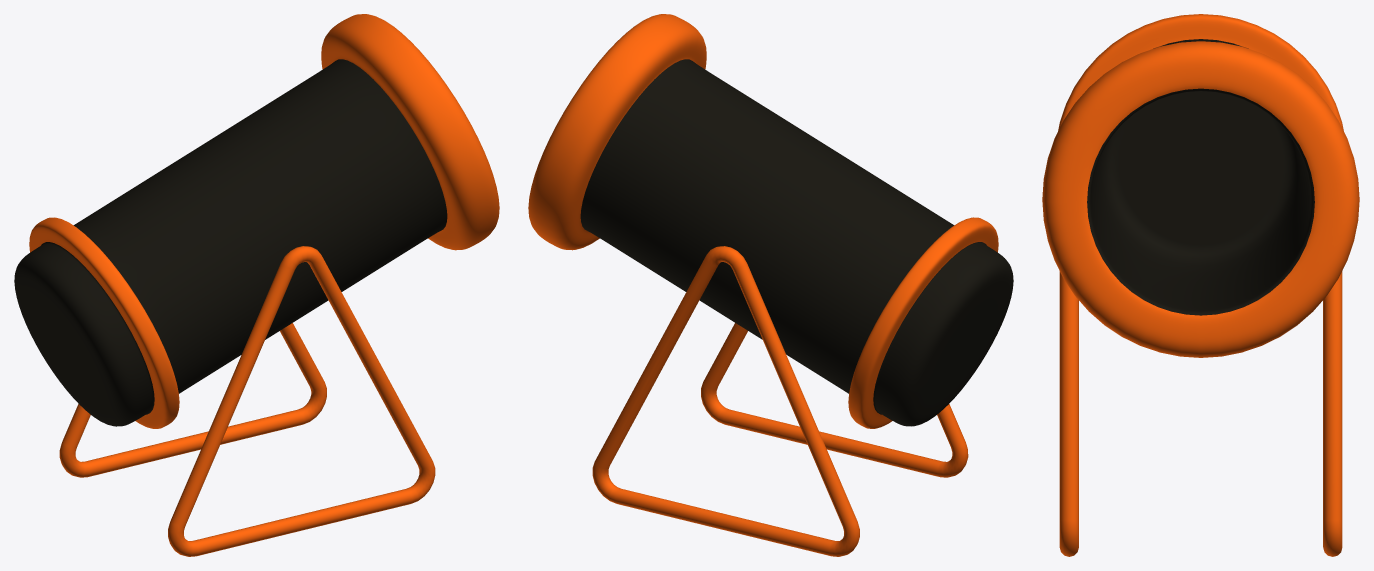
The picture shows the model from 3 angles, left to right: view 1: azimuth 30°, elevation 25°; view 2: azimuth 150°, elevation 25°; view 3: azimuth 270°, elevation 25°; orthographic projection. The views are drawn at different scales.
Parts seen in each view (by area): view 1: Line023, Group123, Line024, Line025; view 2: Line023, Group123, Line025, Line024; view 3: Group123, Line023, Line024, Line025.
Boxes of the visible parts, left/top/right/bottom form: Line023: left=14, top=59, right=447, bottom=426; Group123: left=29, top=14, right=499, bottom=428; Line024: left=168, top=246, right=435, bottom=556; Line025: left=59, top=323, right=326, bottom=477; Line023: left=580, top=59, right=1013, bottom=426; Group123: left=528, top=14, right=998, bottom=428; Line025: left=592, top=246, right=859, bottom=556; Line024: left=701, top=323, right=968, bottom=477; Group123: left=1042, top=14, right=1359, bottom=357; Line023: left=1087, top=39, right=1314, bottom=315; Line024: left=1059, top=271, right=1078, bottom=556; Line025: left=1323, top=271, right=1342, bottom=556.
Bounding box in the file's own units: 47.24 × 45.91 × 25.11.
